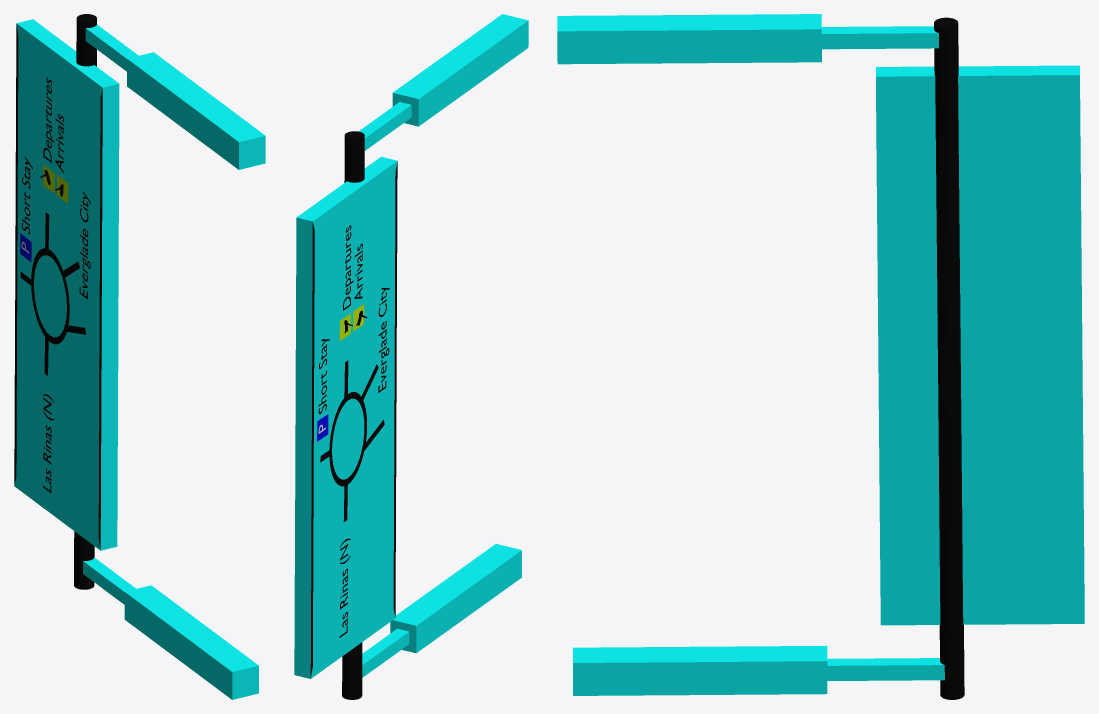
File: ECIA_sign_2.fbx
3 views of the same model, side by side, from view 1: azimuth 30°, elevation 25°; view 2: azimuth 150°, elevation 25°; view 3: azimuth 270°, elevation 25° (orthographic). The views are drawn at different scales.
Visible parts, largest first — view 1: ECIA_sign_2; view 2: ECIA_sign_2; view 3: ECIA_sign_2.
Boxes of the visible parts, box(x1,y1,x2,y2) form: ECIA_sign_2: box(14, 14, 265, 699); ECIA_sign_2: box(294, 14, 528, 699); ECIA_sign_2: box(557, 14, 1084, 699).
Size of the model in its own units: 8.24 by 123 by 87.04.
